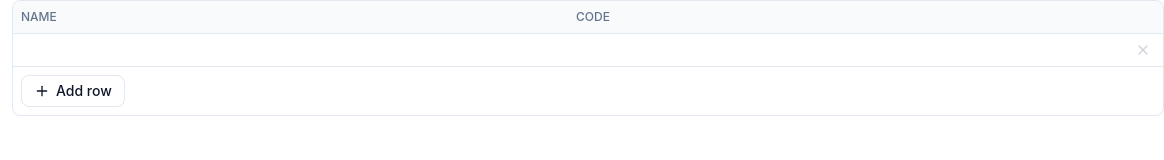
Test: PasteGrid › a plain single-value paste is not intercepted as a multi-cell paste
Click the field named "name, row 1" at (290, 50), box [13,34,568,66]
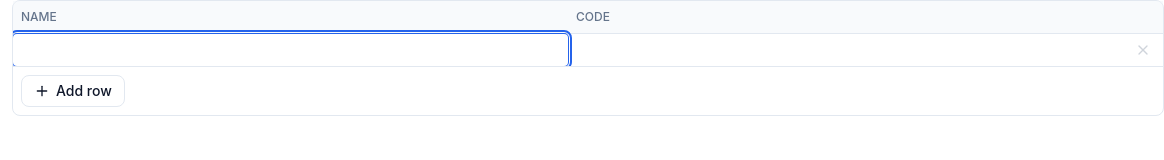
Type keys "Mathematics"
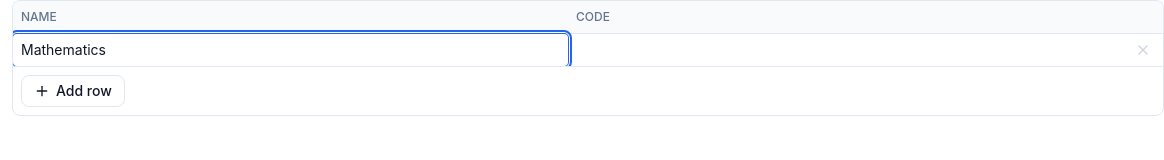
Expected: the field named "code, row 1" is empty, [568,34,1123,66]
Result: the field named "name, row 1" holds "Mathematics" at [13,34,568,66]
